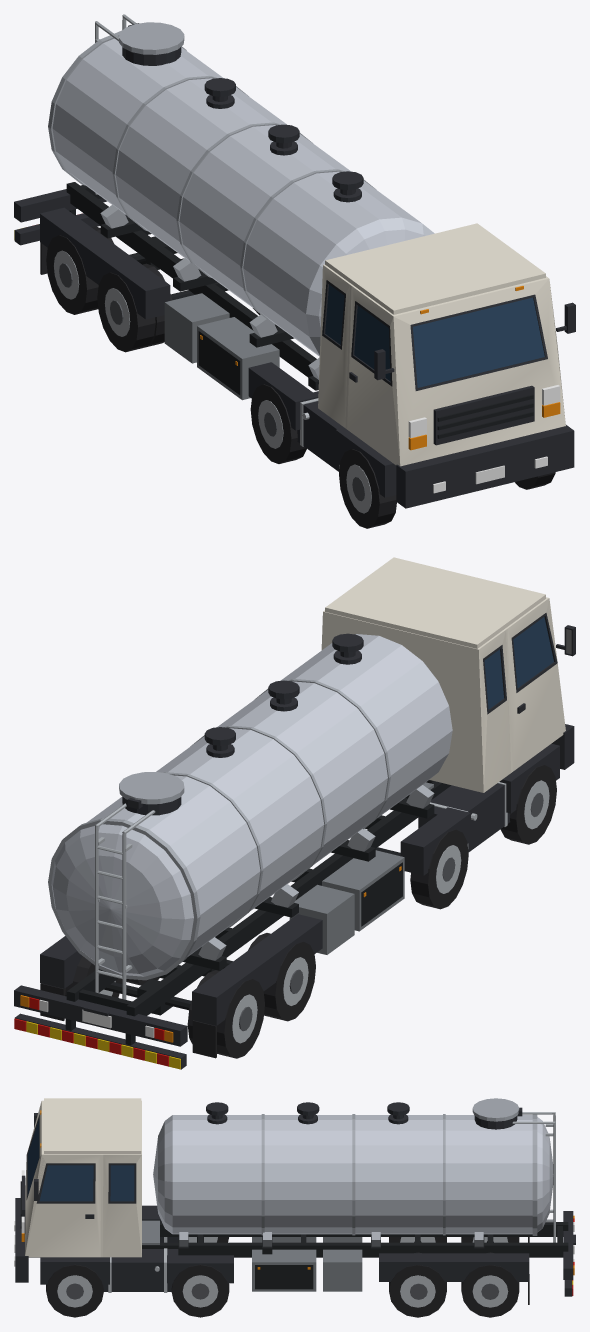
The model's file is mills q5 tanker truck.fbx.
The picture shows the model from 3 angles, top to bottom: view 1: azimuth 30°, elevation 25°; view 2: azimuth 150°, elevation 25°; view 3: azimuth 270°, elevation 25°; orthographic projection. The views are drawn at different scales.
Parts seen in each view (by area): view 1: Axle_Beam_1, zzzzz, ywheel6.001, ywheel5, ywheel8.001, ywheel8.002, zzzz, zzzz.001; view 2: Axle_Beam_1, zzzzz, ywheel8.001, ywheel8.002, ywheel6.001, ywheel5, zzzz, zzzz.002, zzzz.001; view 3: Axle_Beam_1, zzzz.002, ywheel2.002, ywheel2.001, ywheel2, ywheel1, zzzz.003, zzzz.004, ywheel6.001.
Part boxes in pixels (x1,y1,x2,y2): Axle_Beam_1: (14,14,575,508); zzzzz: (40,207,170,319); ywheel6.001: (97,263,172,352); ywheel5: (339,449,396,528); ywheel8.001: (46,226,113,314); ywheel8.002: (250,384,306,463); zzzz: (248,362,318,430); zzzz.001: (335,428,396,497); Axle_Beam_1: (14,557,575,1069); zzzzz: (192,914,322,1025); ywheel8.001: (187,970,264,1058); ywheel8.002: (410,829,468,909); ywheel6.001: (248,933,315,1021); ywheel5: (500,765,556,844); zzzz: (400,807,470,875); zzzz.002: (40,936,82,988); zzzz.001: (499,743,559,813); Axle_Beam_1: (14,1098,575,1304); zzzz.002: (379,1253,529,1281); ywheel2.002: (461,1252,519,1317); ywheel2.001: (389,1252,446,1317); ywheel2: (171,1264,229,1317); ywheel1: (46,1264,103,1317); zzzz.003: (167,1255,233,1283); zzzz.004: (40,1257,109,1284); ywheel6.001: (389,1237,446,1242).
Bounding box in the file's own units: 292 × 356 × 1008.
